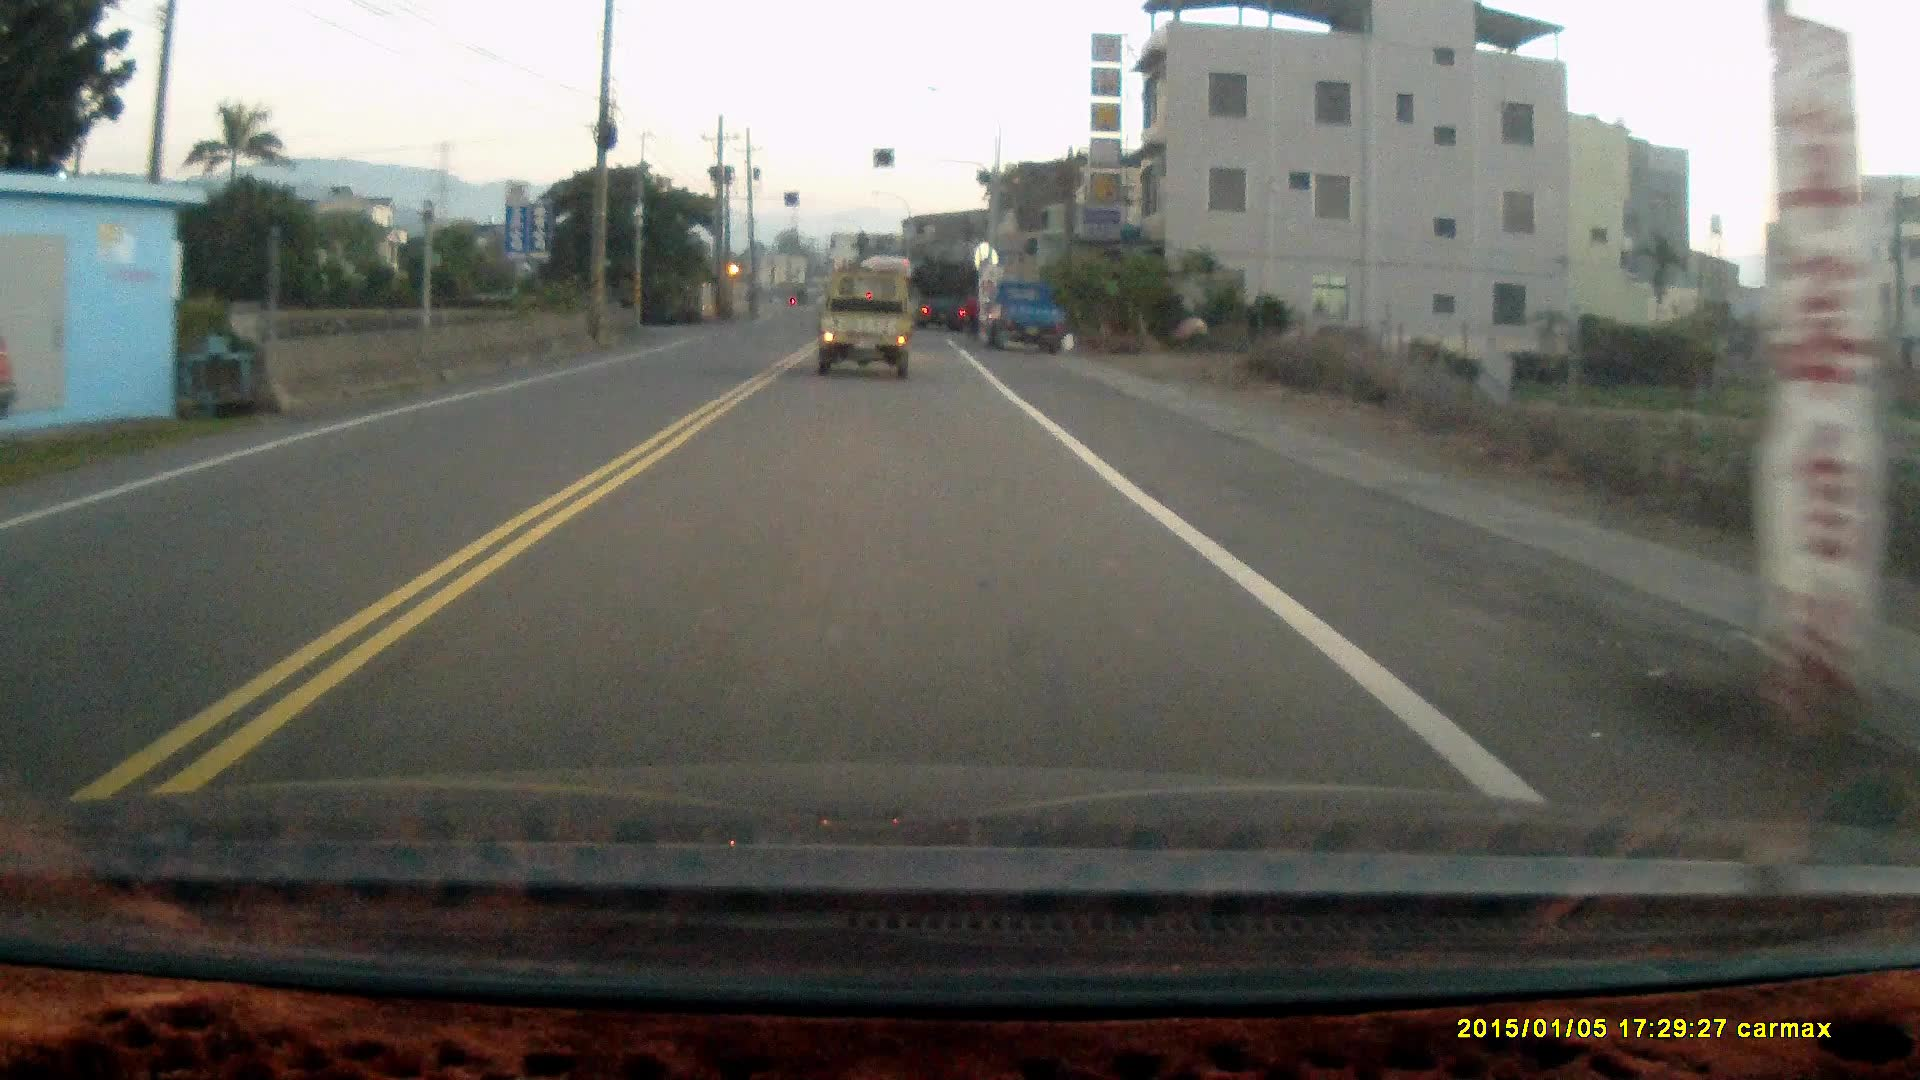vehicle: (814, 272, 916, 382), (978, 276, 1077, 351), (913, 260, 982, 330)
